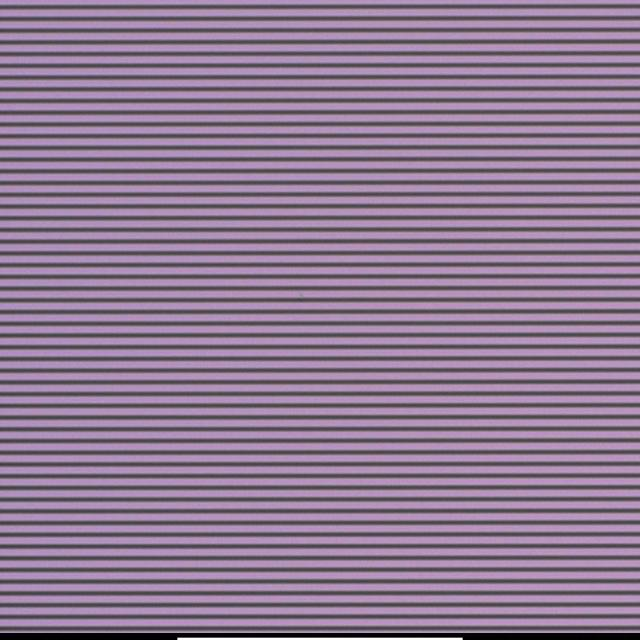03_intrusion: (296, 290, 305, 302)
